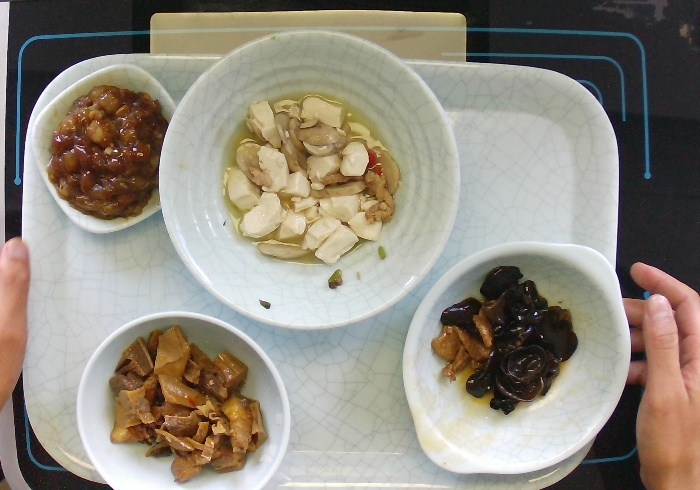JYsf-Fan_Wan: (72, 309, 294, 490)
JYsf-Shuang_Er_Wan: (399, 238, 635, 479)
JYsf-Si_Fang_Die: (32, 56, 180, 242)
JYsf-Xiao_Tang_Wan: (154, 26, 460, 331)
